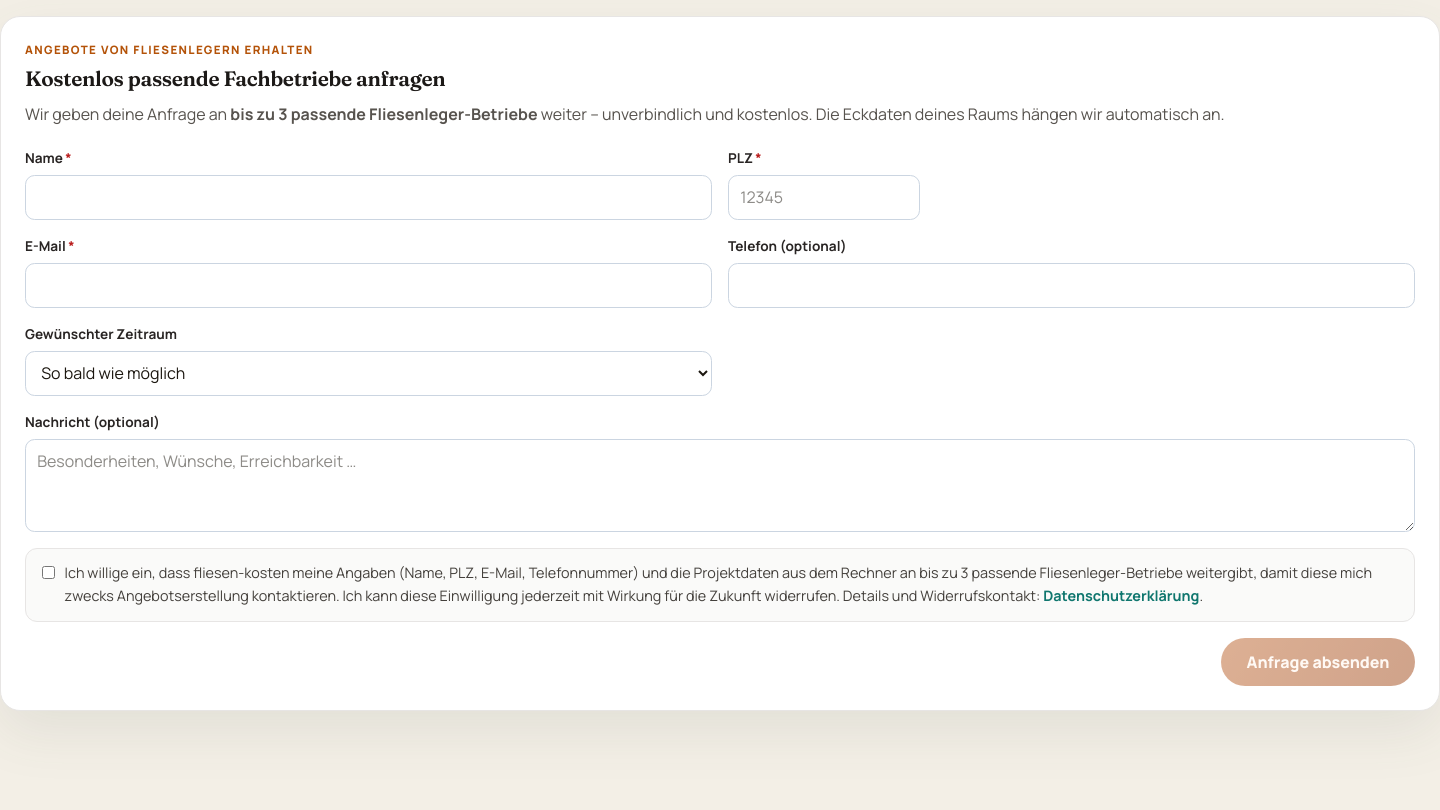
Test: LeadFormComponent › keeps submit disabled until required fields AND consent checkbox are set
Expected: the button "Anfrage absenden" is disabled, [1221,638,1415,686]
Type "Max Mustermann" into the field labelled "Name*" at {"x": 368, "y": 197}, box [25,175,712,220]
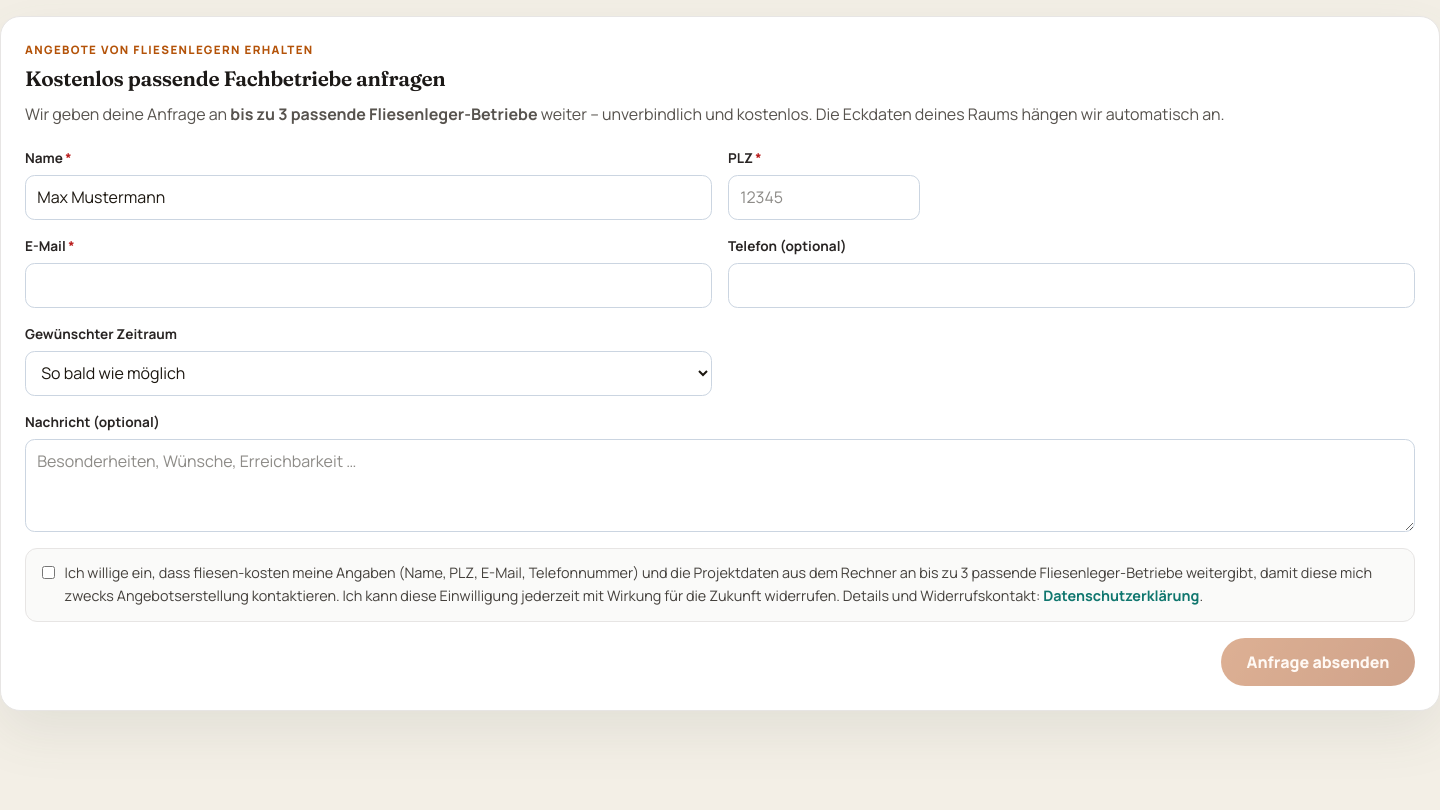
Type "96117" into the field labelled "PLZ*" at {"x": 824, "y": 197}, box [728,175,920,220]
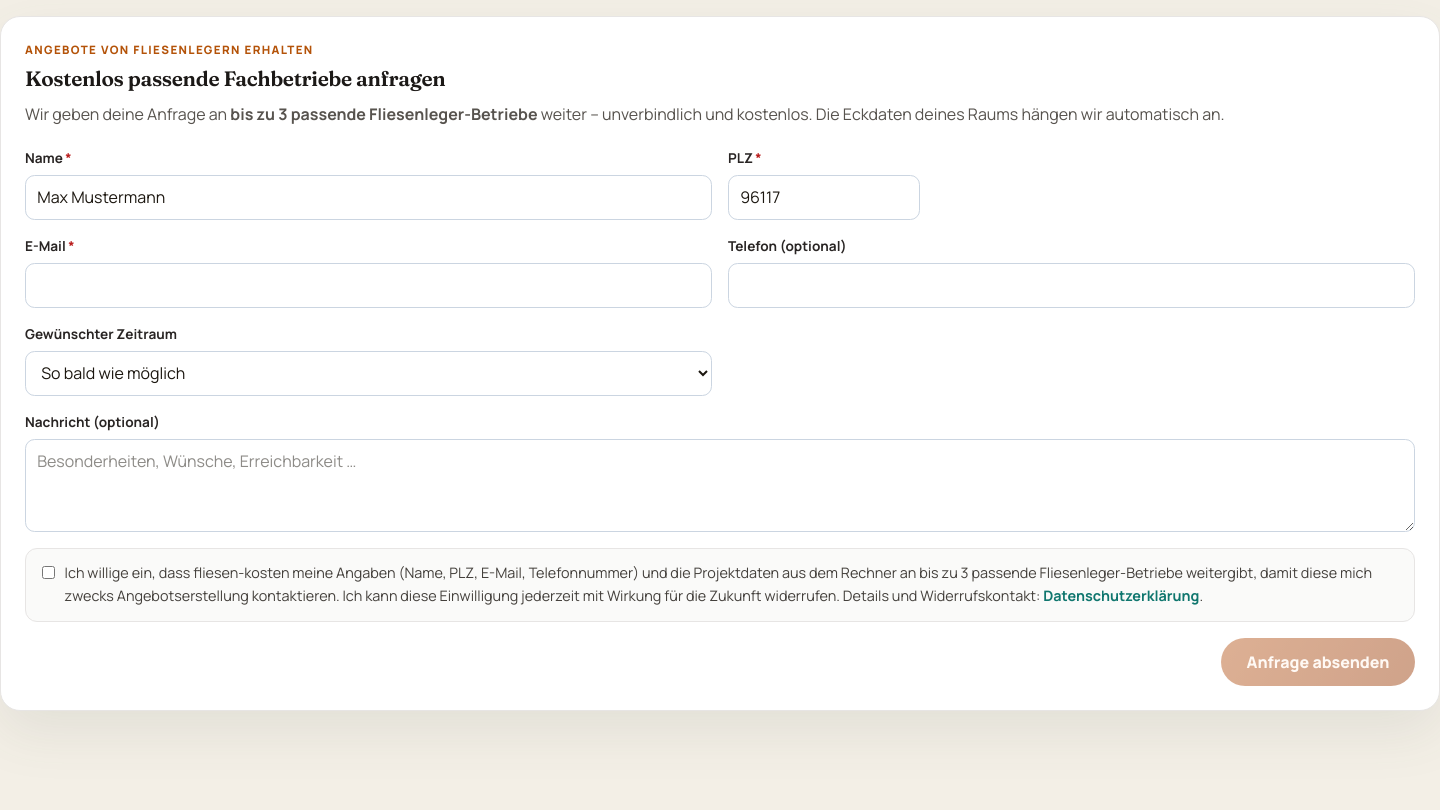
Type "max@example.com" into the field labelled "E-Mail*" at {"x": 368, "y": 285}, box [25,263,712,308]
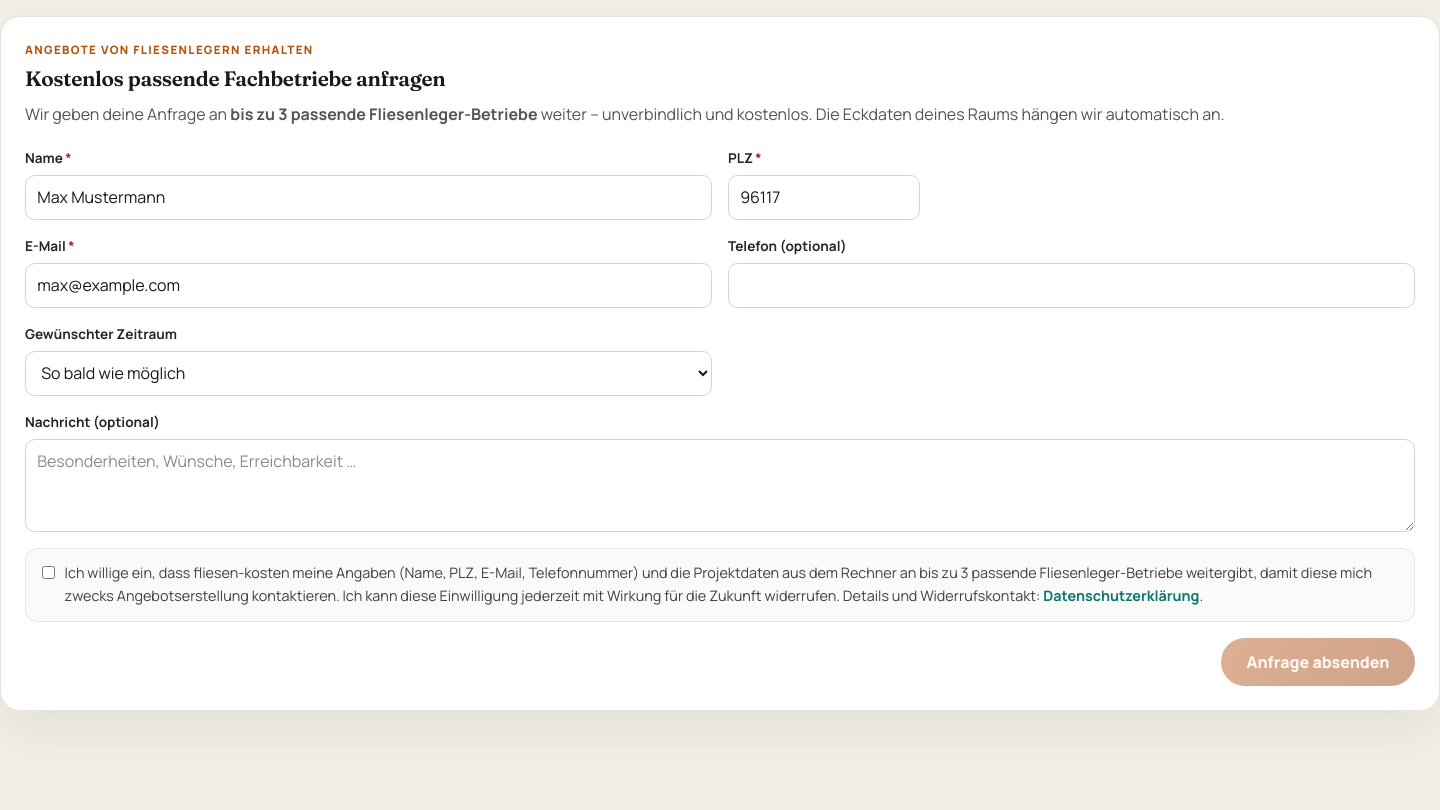
Expected: the button "Anfrage absenden" is disabled, [1221,638,1415,686]
Click the checkbox named "consent" at {"x": 48, "y": 572}, box [42,566,55,578]
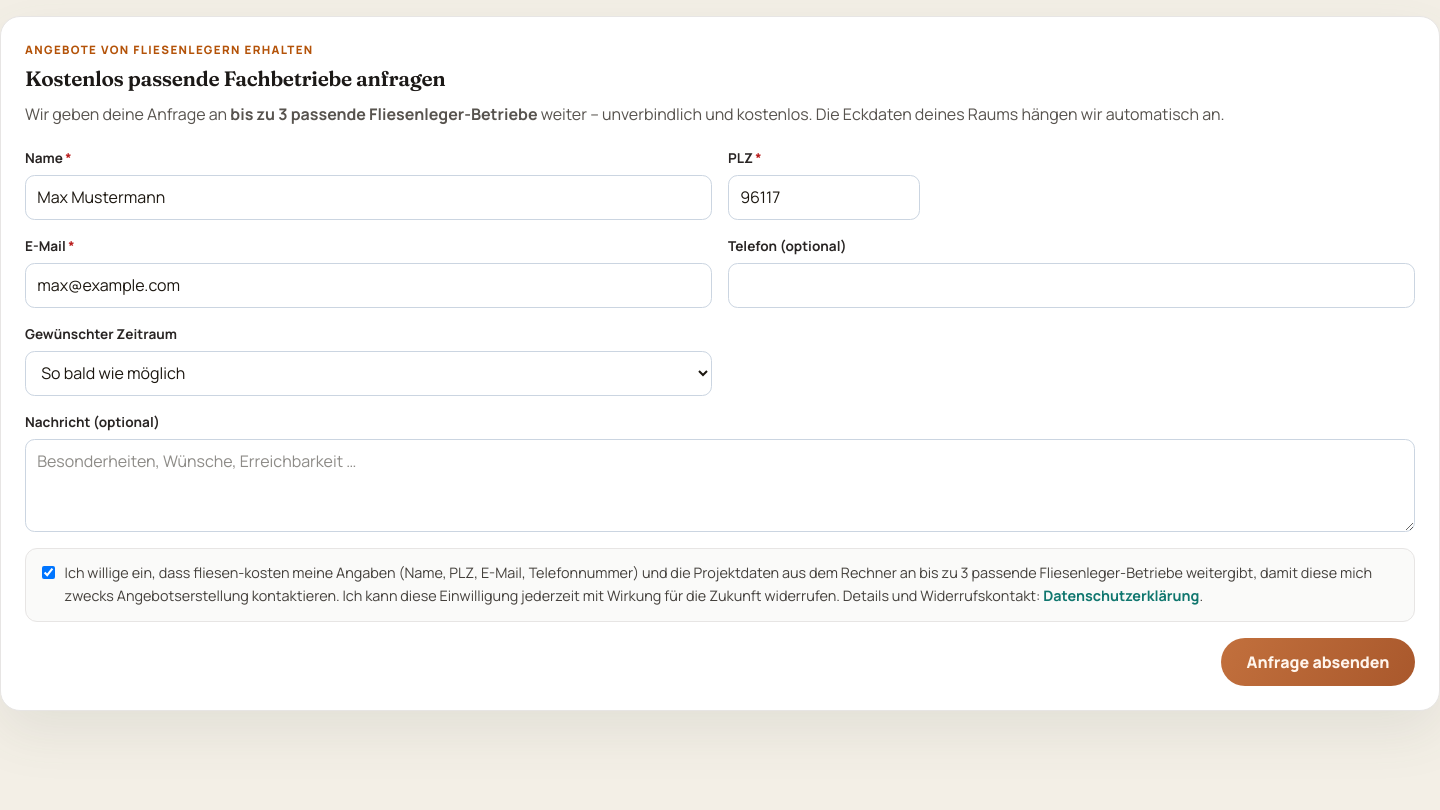
Expected: the button "Anfrage absenden" is enabled, [1221,638,1415,686]
